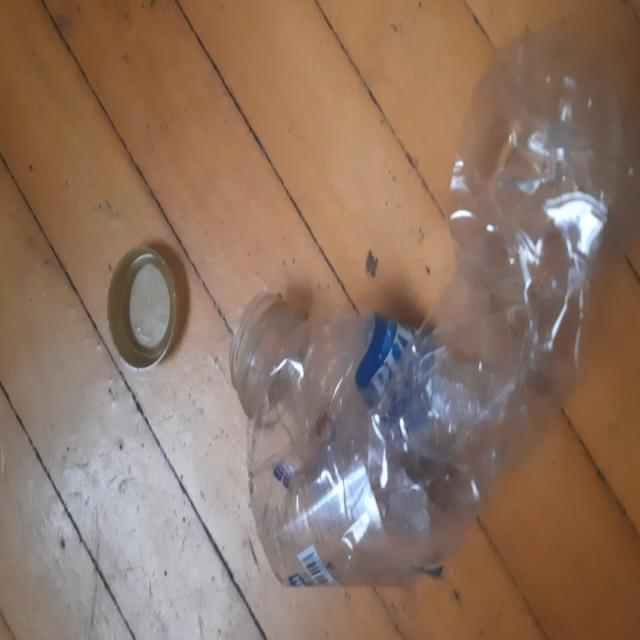Plastic: (238, 21, 632, 588)
